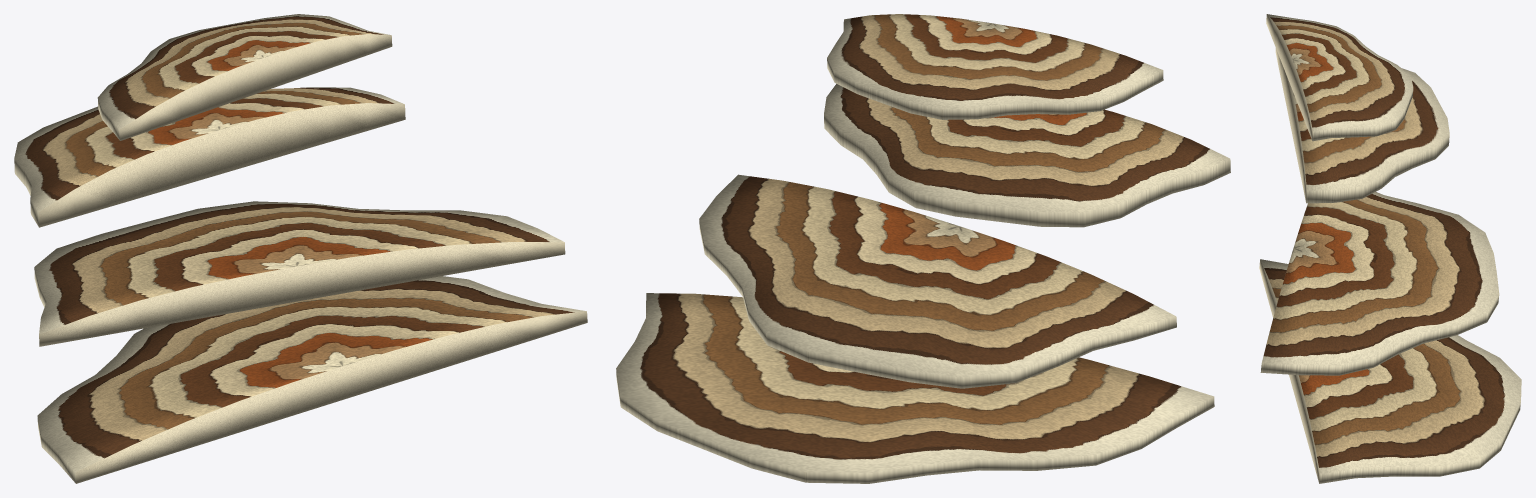
Rendered from bracket_fungus_v01.glb.
3 views of the same model, side by side, from view 1: azimuth 30°, elevation 25°; view 2: azimuth 150°, elevation 25°; view 3: azimuth 270°, elevation 25° (orthographic). The views are drawn at different scales.
Visible parts, largest first — view 1: bracket_fungus_v01; view 2: bracket_fungus_v01; view 3: bracket_fungus_v01.
Boxes of the visible parts, bbox=[...] form: bracket_fungus_v01: bbox=[14, 14, 587, 483]; bracket_fungus_v01: bbox=[616, 14, 1230, 483]; bracket_fungus_v01: bbox=[1259, 14, 1521, 483].
Size of the model in its own units: 0.1849 by 0.1175 by 0.0906.
2 materials, 2 textured.
